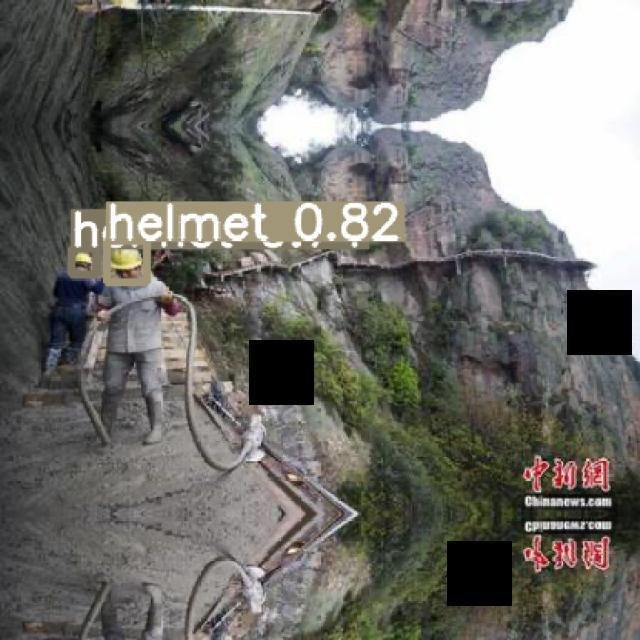yellow helmet: (106, 237, 145, 287), (66, 244, 97, 278)
